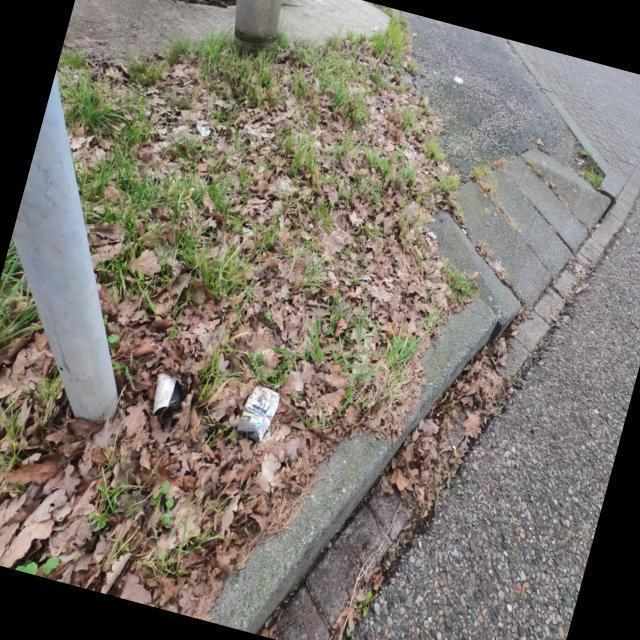Cup: (152, 372, 183, 431)
Paper: (236, 384, 282, 444)
